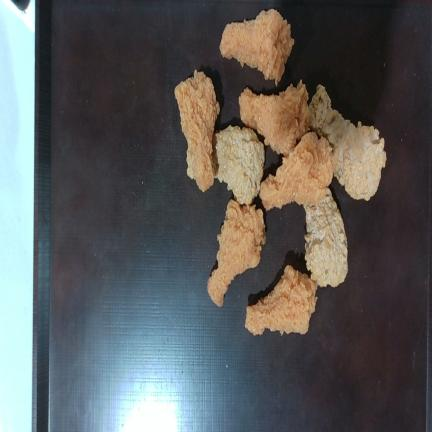chicken: (309, 85, 386, 200), (208, 200, 265, 307), (219, 9, 294, 85), (260, 132, 332, 211), (174, 70, 219, 191), (239, 80, 309, 155), (245, 265, 317, 334), (304, 188, 348, 286), (213, 125, 264, 203)
